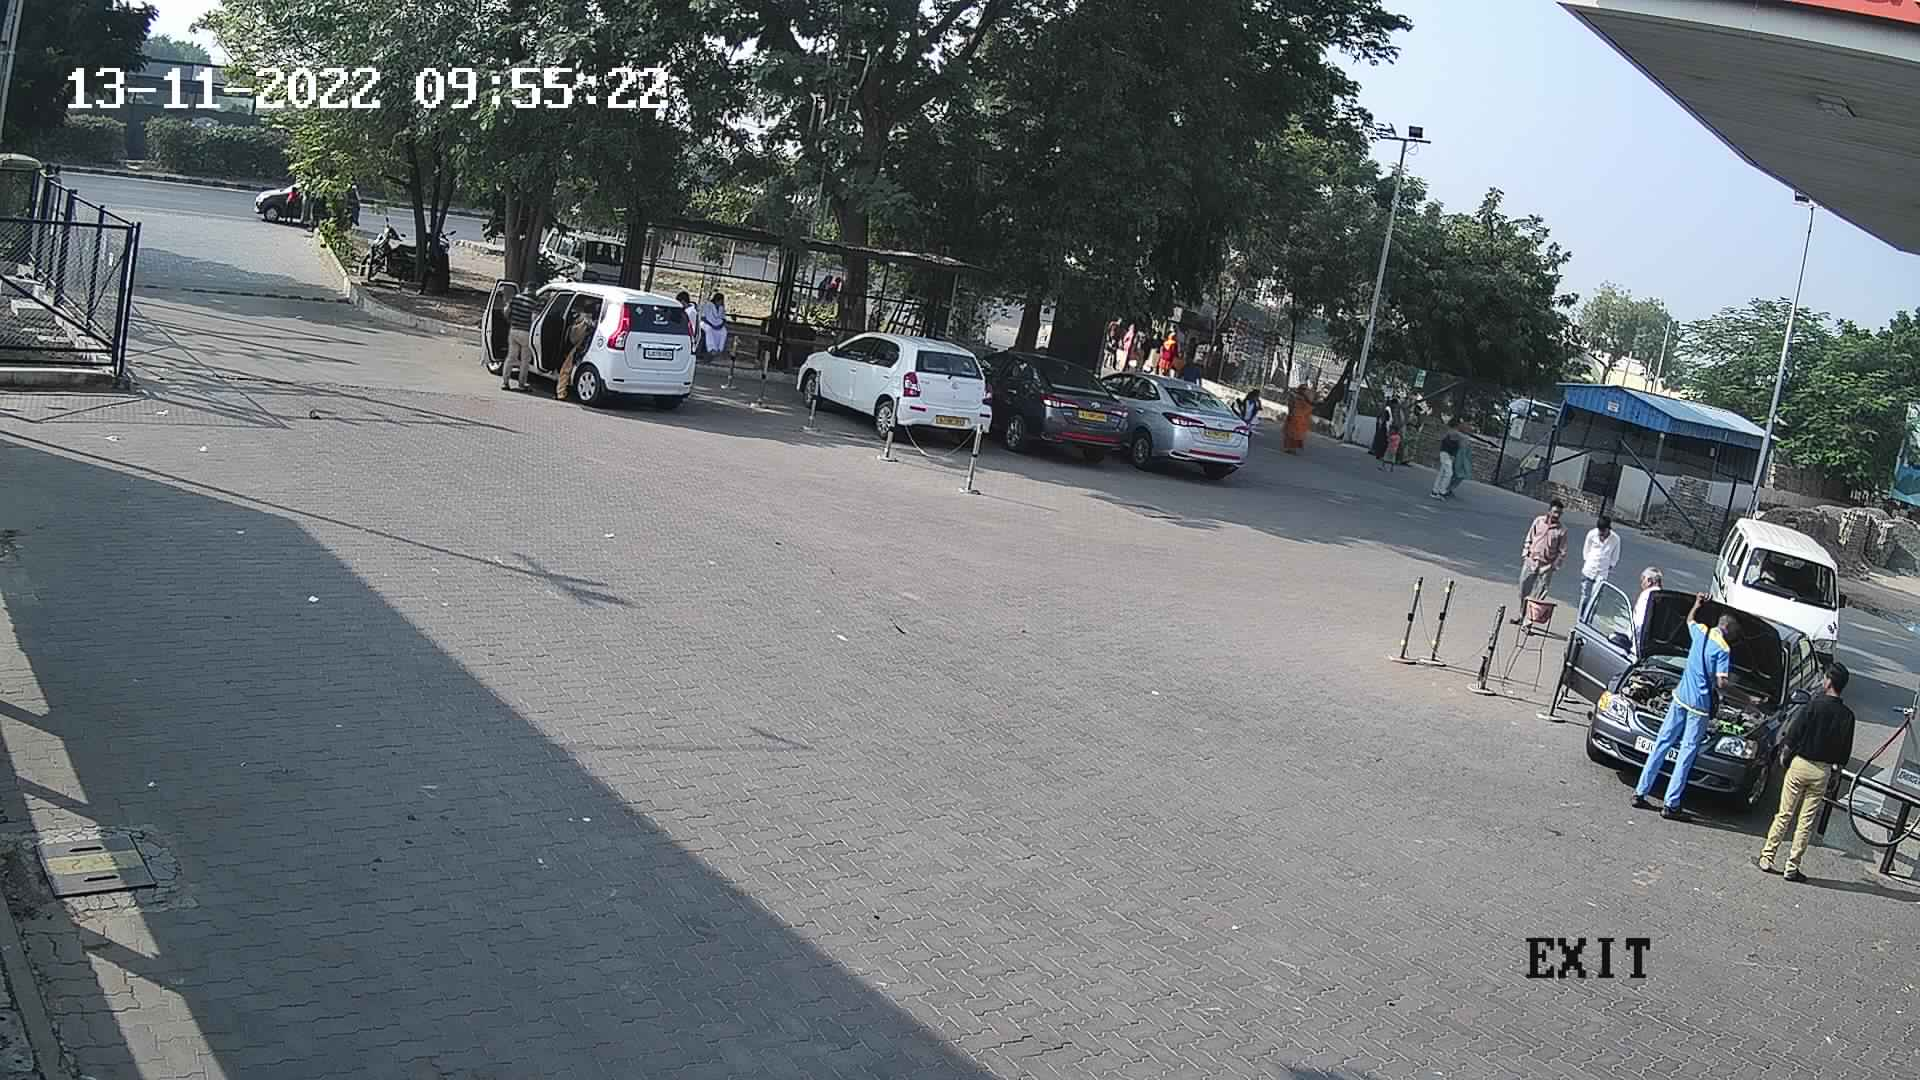Auto: (1, 142, 51, 241)
Bike: (343, 203, 433, 299)
Car: (1557, 549, 1840, 819), (501, 266, 712, 418), (1689, 506, 1849, 680), (793, 319, 1009, 444), (1087, 356, 1259, 483), (973, 340, 1139, 465), (247, 160, 367, 240), (526, 214, 633, 287)
Others: (1621, 607, 1751, 825)
